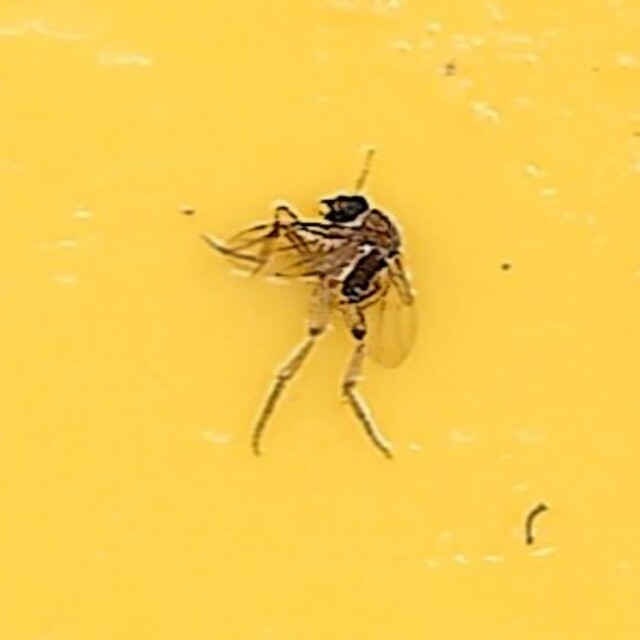Brachycera: (217, 178, 423, 462)
